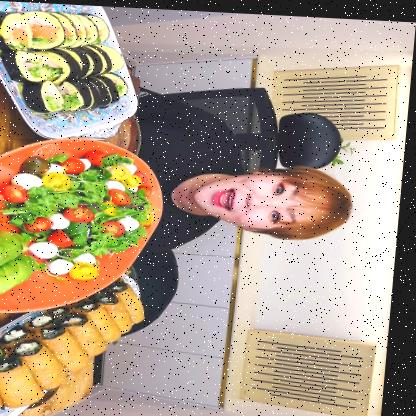streamer: (130, 83, 365, 257)
